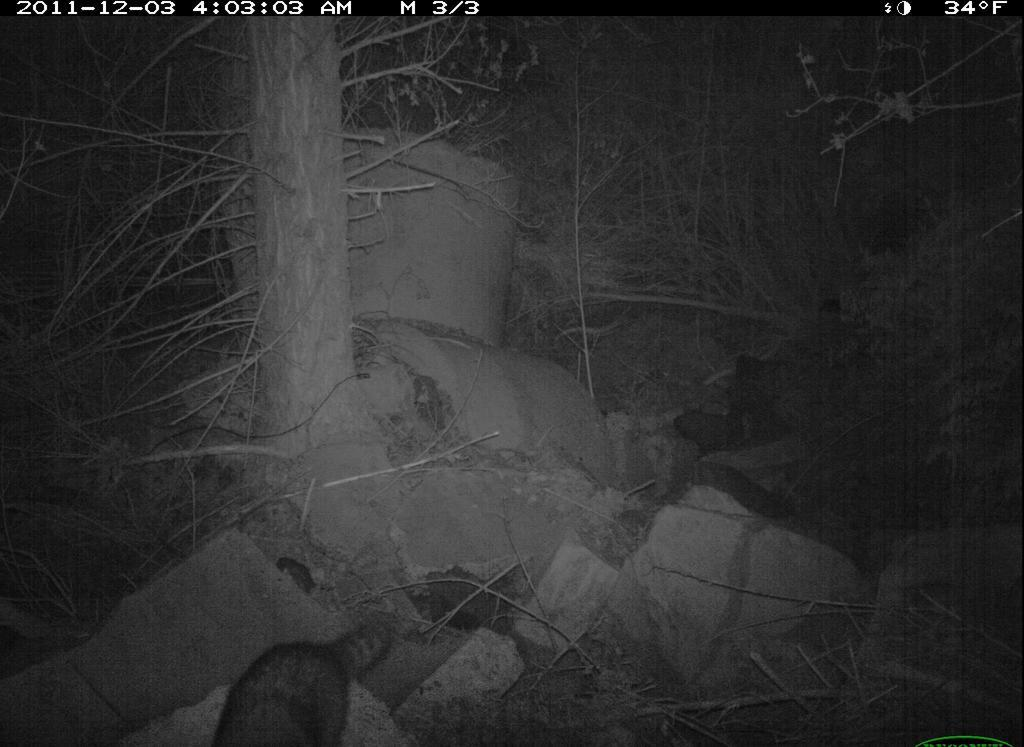raccoon: (205, 614, 402, 747)
